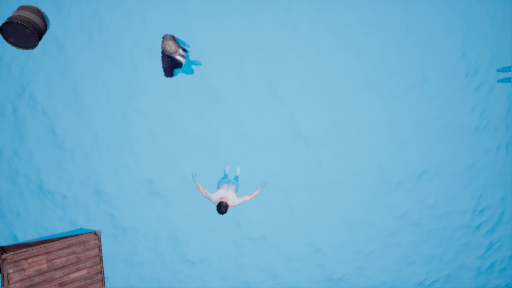person: (190, 156, 280, 215), (154, 34, 211, 94)
